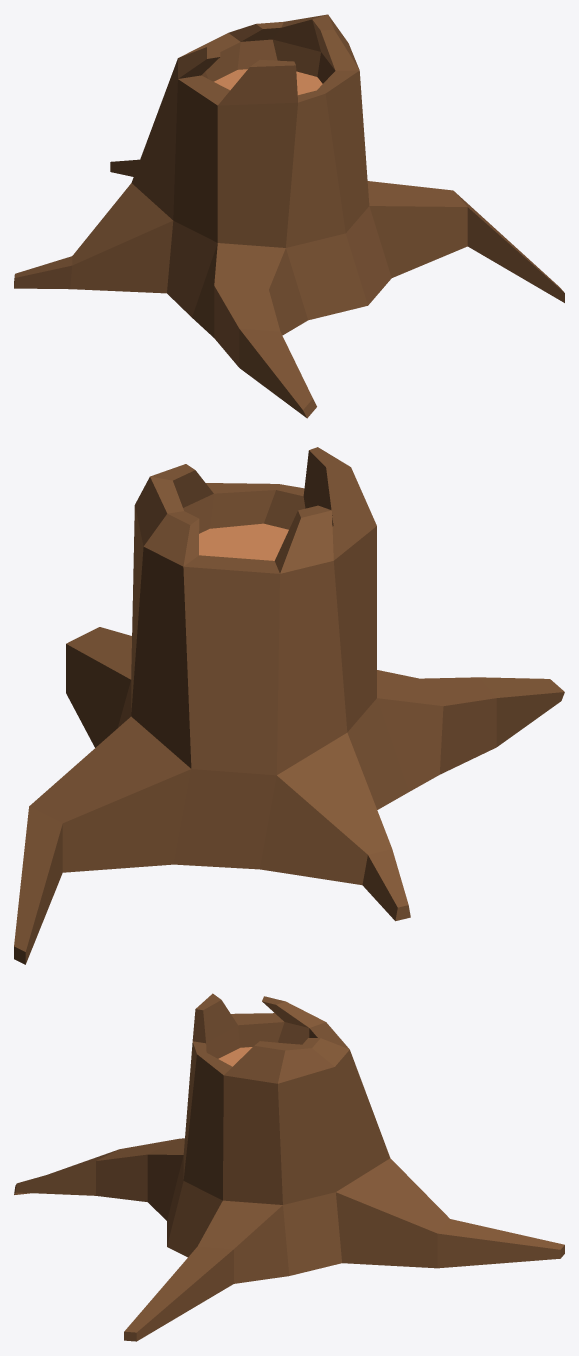
Rendered from Stub3.fbx.
3 renders of one model, top to bottom at view 1: azimuth 30°, elevation 25°; view 2: azimuth 150°, elevation 25°; view 3: azimuth 270°, elevation 25°, orthographic. The views are drawn at different scales.
Visible parts, largest first — view 1: Cylinder.009; view 2: Cylinder.009; view 3: Cylinder.009.
Part boxes in pixels (left/top/right/bottom): Cylinder.009: left=14, top=14, right=564, bottom=418; Cylinder.009: left=14, top=447, right=564, bottom=964; Cylinder.009: left=14, top=993, right=564, bottom=1341.
Size of the model in its own units: 234 by 145 by 310.
